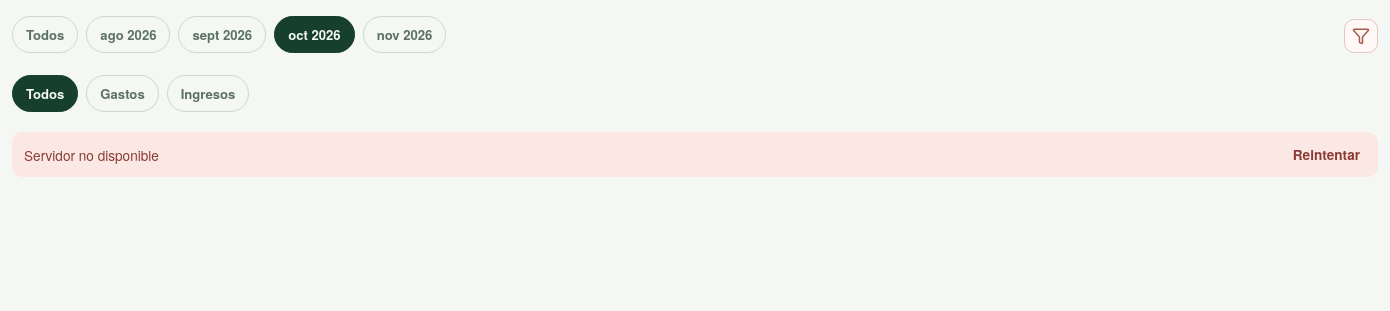
Test: Movimientos › retries the same query after an error
Expected: the text "Servidor no disponible" is shown, [24, 144, 159, 164]
Click the button "Reintentar" at (1326, 154), box [1287, 144, 1366, 165]
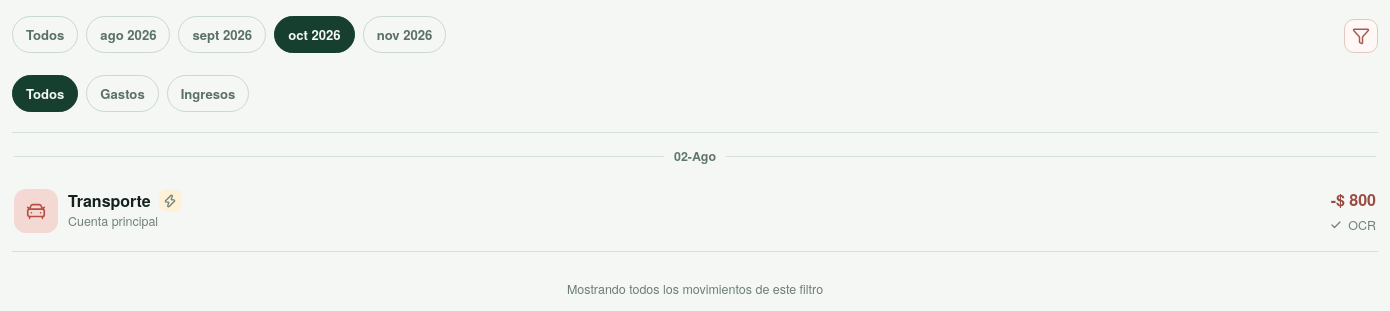
Expected: the element titled "OCR" is shown, [159, 189, 182, 212]
